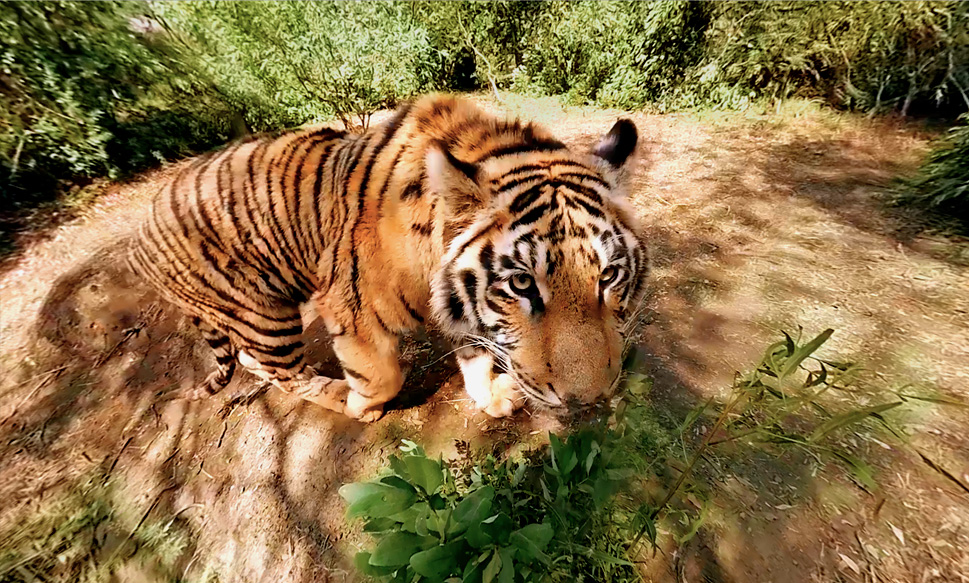Tiger: (101, 97, 668, 450)
